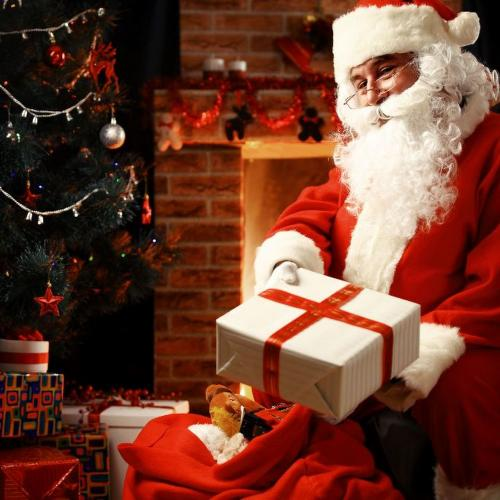Santa: (253, 0, 500, 500)
